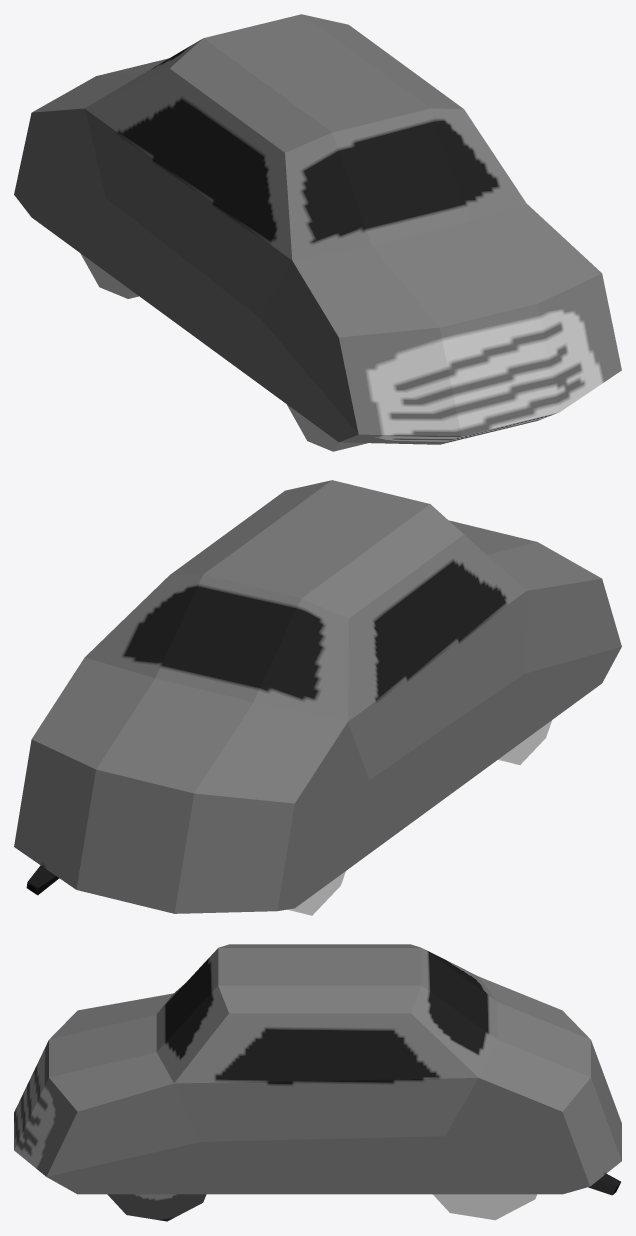
File: car.fbx
3 views of the same model, one above another, from view 1: azimuth 30°, elevation 25°; view 2: azimuth 150°, elevation 25°; view 3: azimuth 270°, elevation 25° (orthographic). The views are drawn at different scales.
Parts seen in each view (by area): view 1: Cube.028, Cylinder.002, Cylinder.004; view 2: Cube.028, Cylinder.002, Cylinder.004; view 3: Cube.028, Cylinder.003, Cylinder.005.
Part boxes in pixels (x1,y1,x2,y2): Cube.028: [14, 14, 621, 444]; Cylinder.002: [287, 404, 367, 451]; Cylinder.004: [80, 253, 138, 298]; Cube.028: [14, 480, 621, 913]; Cylinder.002: [498, 720, 551, 764]; Cylinder.004: [287, 871, 345, 915]; Cube.028: [14, 944, 621, 1195]; Cylinder.003: [107, 1194, 206, 1221]; Cylinder.005: [433, 1194, 536, 1220].
Size of the model in its own units: 392 by 385 by 992.
